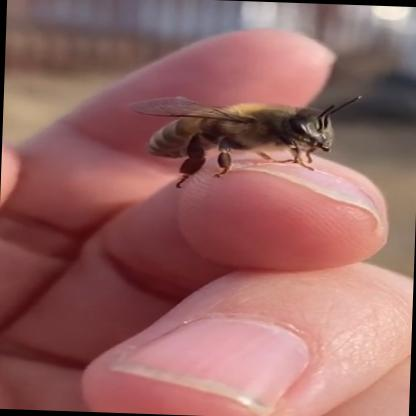bee: (106, 78, 390, 206)
